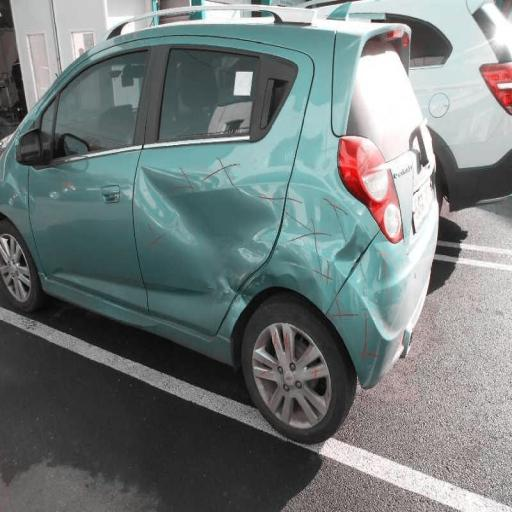dent: (93, 137, 281, 310)
scratch: (211, 130, 397, 324)
